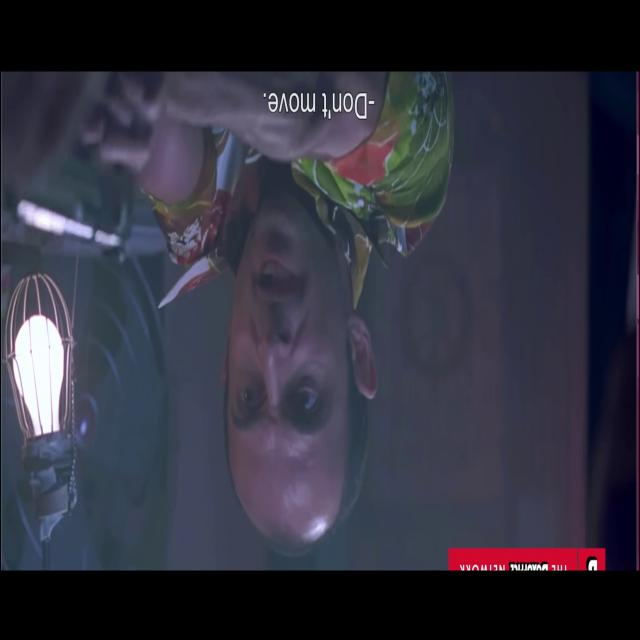weapons: (6, 90, 161, 278)
